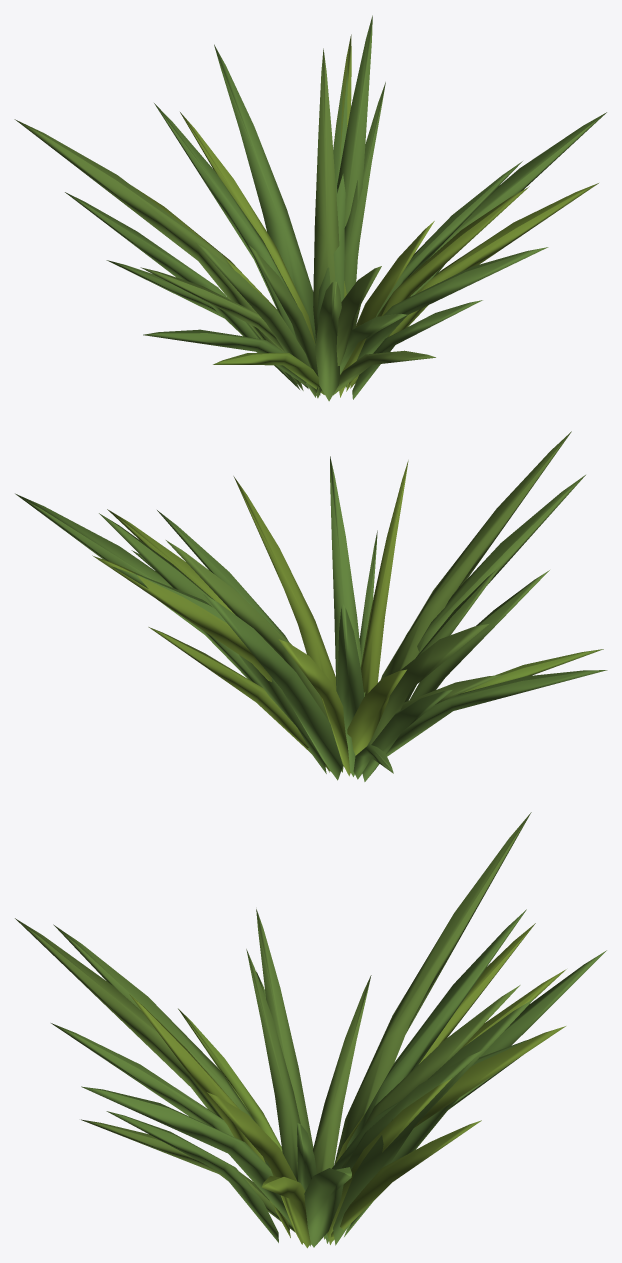
Rendered from tuft_grass_tall.glb.
The picture shows the model from 3 angles, top to bottom: view 1: azimuth 30°, elevation 25°; view 2: azimuth 150°, elevation 25°; view 3: azimuth 270°, elevation 25°; orthographic projection. The views are drawn at different scales.
Visible parts, largest first — view 1: Sammel Pflanze; view 2: Sammel Pflanze; view 3: Sammel Pflanze.
Part boxes in pixels (x1=…): Sammel Pflanze: x1=14, y1=15, x2=606, y2=401; Sammel Pflanze: x1=15, y1=431, x2=607, y2=781; Sammel Pflanze: x1=15, y1=812, x2=606, y2=1248.
Size of the model in its own units: 0.5687 by 0.2882 by 0.4859.
